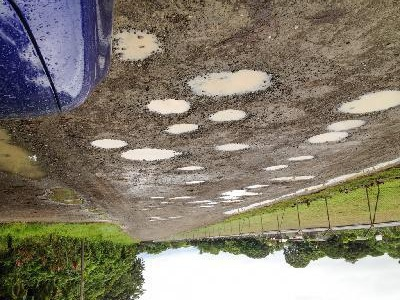pothole: (186, 67, 276, 100), (110, 26, 163, 63), (336, 88, 399, 115), (146, 98, 193, 118), (120, 148, 186, 161), (305, 130, 351, 146), (207, 110, 246, 126), (164, 121, 202, 137), (326, 118, 367, 132), (90, 137, 130, 150), (271, 176, 315, 186), (214, 141, 249, 152), (220, 189, 262, 198), (171, 164, 207, 173), (260, 165, 289, 173), (288, 155, 316, 163), (243, 183, 270, 190), (183, 179, 207, 186)
